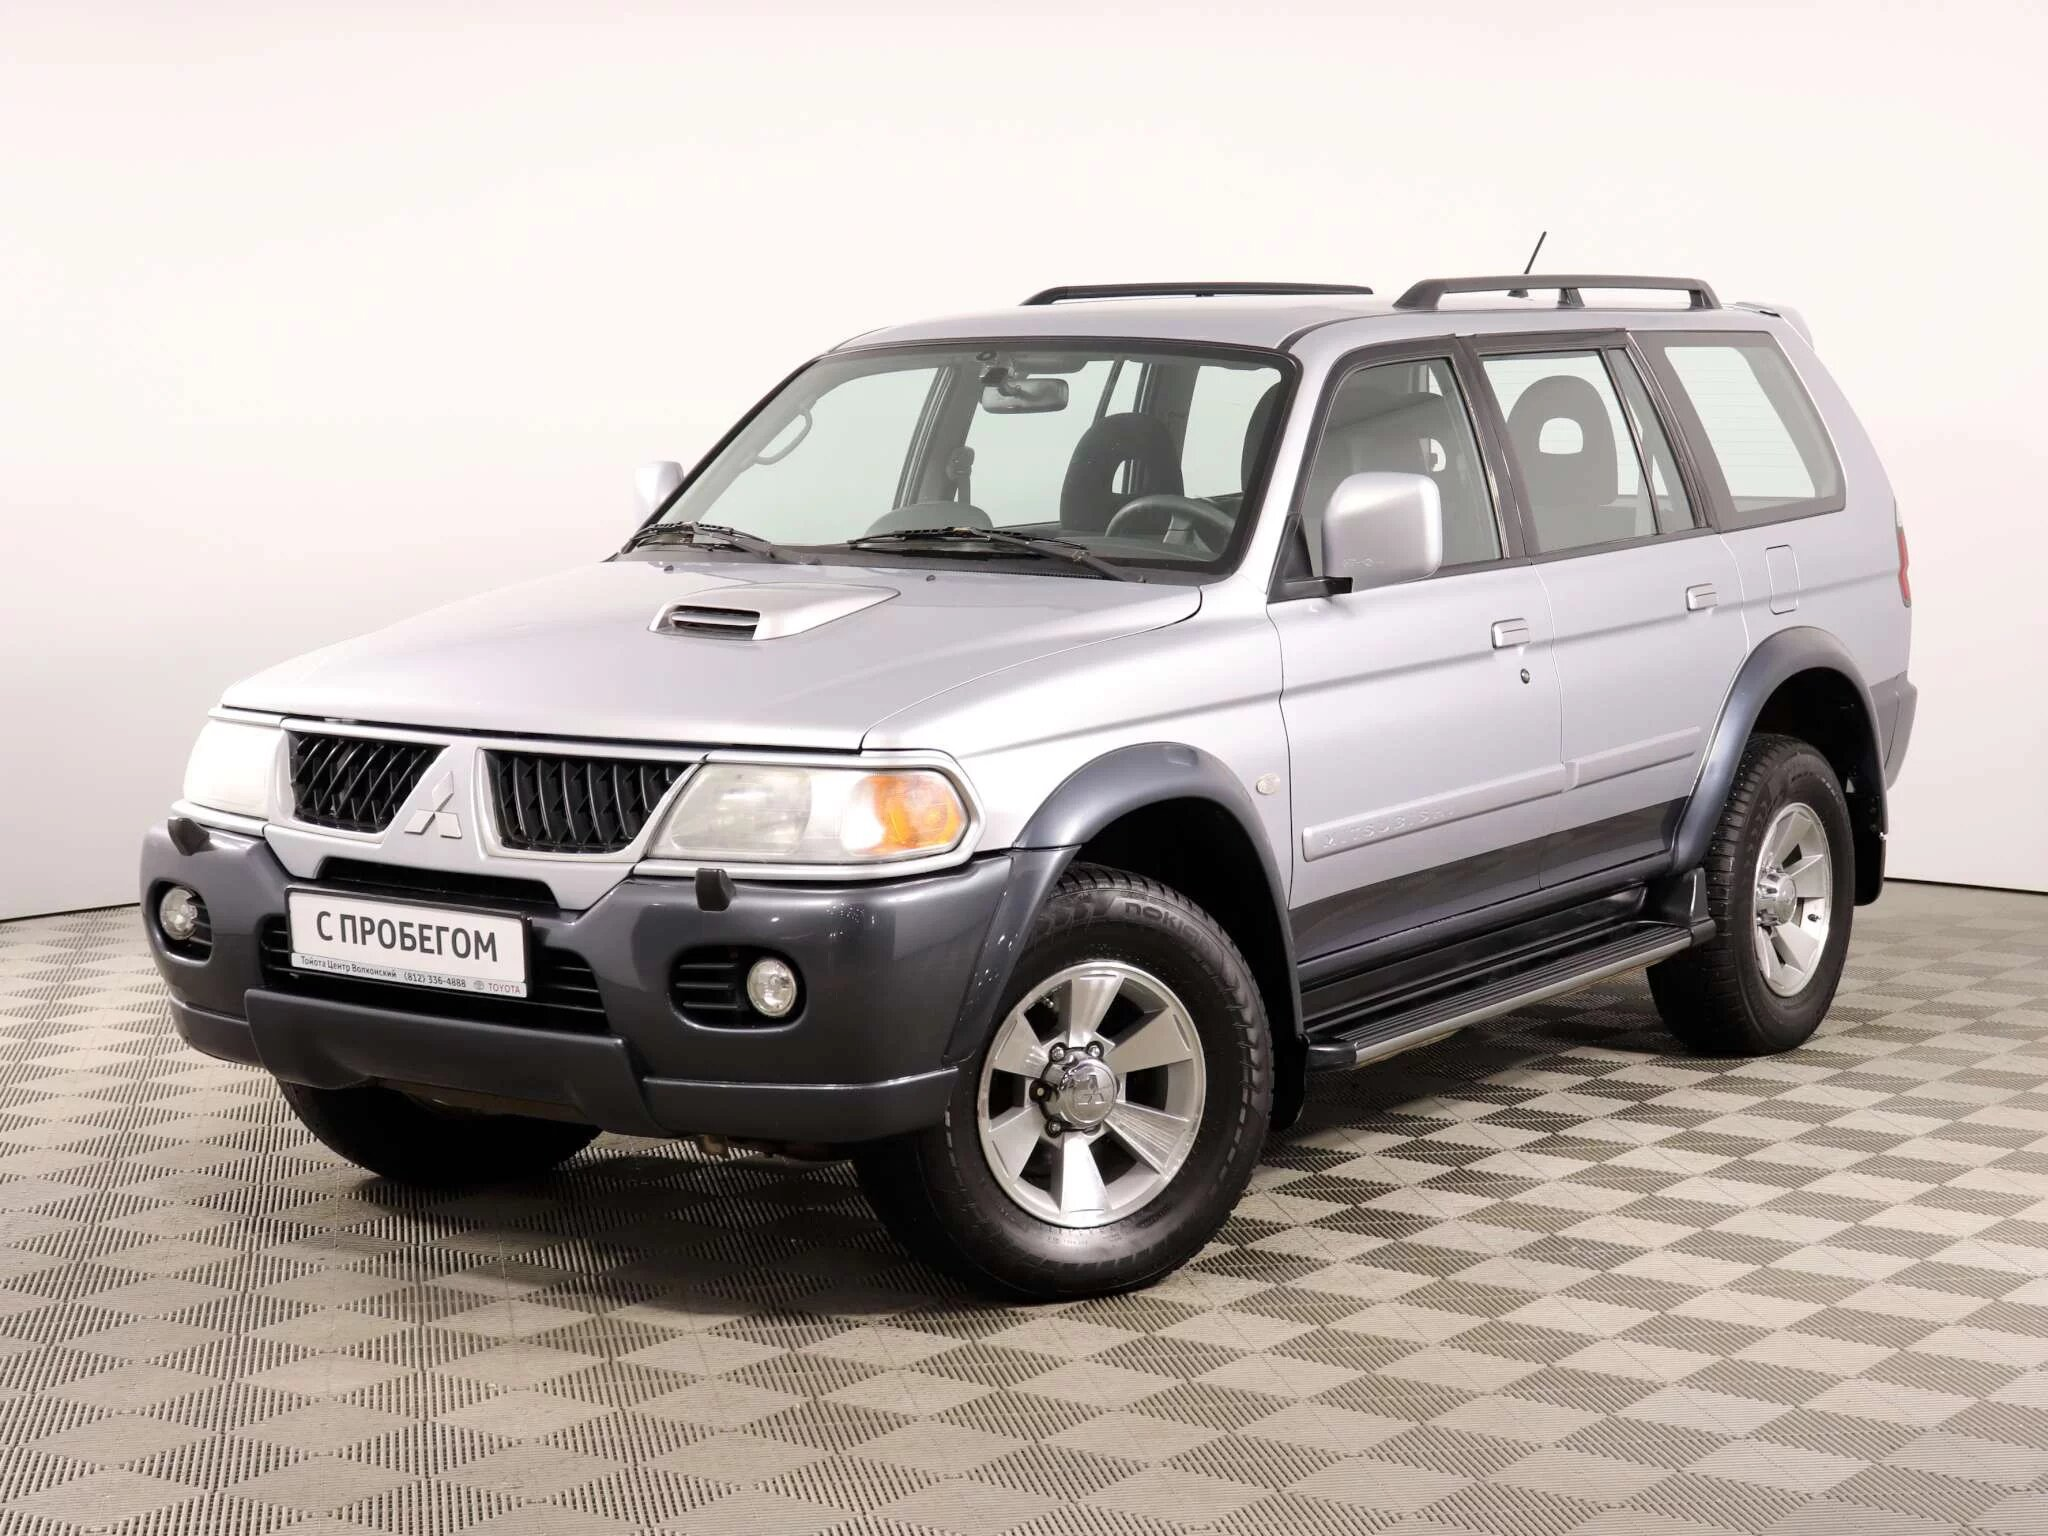00 Krupnie detali. bamper zadniy: (1869, 676, 1916, 786)
01 Krupnie detali. bamper peredniy: (145, 712, 1011, 1141)
02 Krupnie detali. dver zadnyaya levaya: (1458, 328, 1748, 952)
04 Krupnie detali. dver perednyaya levaya: (1263, 334, 1558, 1016)
06 Krupnie detali. kapot: (223, 561, 1198, 744)
07 Krupnie detali. koleso: (855, 858, 1272, 1304), (1646, 733, 1853, 1058), (277, 1087, 593, 1186)
08 Krupnie detali. krylo zadnee levoe: (1717, 319, 1908, 682)
10 Krupnie detali. krylo perednee levoe: (866, 574, 1288, 891)
12 Krupnie detali. krysha: (816, 287, 1809, 592)
14 Krupnie detali. lobovoe steklo: (632, 340, 1293, 573)
16 Melkie detali. antenna: (1509, 229, 1545, 294)
17 Melkie detali. bolty krepleniya diska kolesa: (1043, 1117, 1066, 1136), (1089, 1044, 1106, 1062), (1050, 1046, 1066, 1062), (1755, 912, 1772, 926), (1032, 1084, 1048, 1097), (1753, 884, 1764, 897)
20 Melkie detali. kryshka bokovogo zerkala levaya: (1268, 474, 1447, 591)
21 Melkie detali. kryshka bokovogo zerkala pravaya: (635, 465, 682, 524)
22 Melkie detali. levoe shchetka stekloochistitelya lobovogo stekla: (853, 532, 1085, 565)
23 Melkie detali. levyy povodok stekloochistitelya lobovogo stekla: (1079, 550, 1137, 576)
28 Melkie detali. nippel dlya kolesa: (1801, 907, 1824, 926)
29 Melkie detali. povtoritel: (1248, 773, 1285, 794)
30 Melkie detali. pravaya shchetka stekloochistitelya lobovogo stekla: (634, 520, 780, 558)
31 Melkie detali. pravyy povodok stekloochistitelya lobovogo stekla: (777, 549, 818, 565)
32 Melkie detali. PTF levyy: (750, 955, 793, 1015)
33 Melkie detali. PTF pravyy: (153, 891, 190, 941)
35 Melkie detali. ruchka dveri: (1680, 582, 1727, 620), (1493, 620, 1538, 649)
39 Melkie detali. emblema: (382, 750, 490, 850)
44 Srednie detali. bryzgovik peredniy levyy: (921, 573, 942, 594)
45 Srednie detali. bryzgovik peredniy pravyy: (660, 566, 676, 582)
46 Srednie detali. disk kolesa: (980, 962, 1211, 1231), (1756, 800, 1843, 1004)
47 Srednie detali. kryshka lyuka benzobaka: (1761, 544, 1801, 613)
55 Srednie detali. podkrylok zadniy levyy: (1674, 632, 1885, 904)
57 Srednie detali. podkrylok peredniy levyy: (948, 747, 1303, 1146)
59 Srednie detali. ramka gosnomera: (290, 891, 526, 1000)
60 Srednie detali. reshetka bampera centralnaya: (256, 908, 614, 1039)
61 Srednie detali. reshetka perednego bampera pod PTF levaya: (668, 950, 742, 1010)
62 Srednie detali. reshetka perednego bampera pod PTF pravaya: (160, 902, 214, 966)
63 Srednie detali. reshetka radiatora: (490, 753, 698, 852), (273, 734, 435, 836)
64 Srednie detali. steklo zadney dveri levoye: (1632, 332, 1845, 534), (1479, 353, 1663, 552)
65 Srednie detali. steklo zadney dveri levoye (fortochka): (1611, 349, 1700, 536)
68 Srednie detali. steklo peredney dveri levoye: (1303, 360, 1505, 573)
70 Srednie detali. fara perednyaya levaya: (651, 768, 963, 855)
71 Srednie detali. fara perednyaya pravaya: (184, 724, 281, 816)
72 Srednie detali. fonar zadniy levyy: (1898, 505, 1909, 597)
